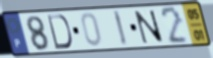0: (79, 11, 104, 49)
2: (160, 5, 192, 47)
8: (24, 15, 51, 52)
D: (46, 14, 73, 51)
I: (111, 9, 130, 48)
N: (132, 9, 166, 45)
